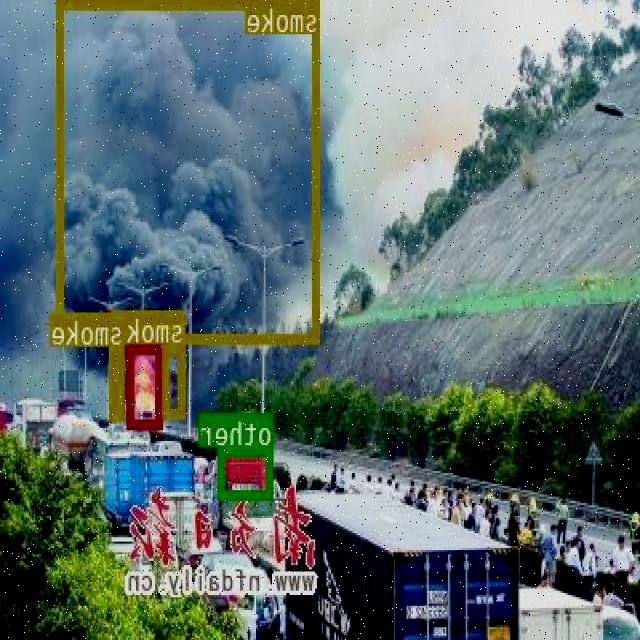fire: (129, 343, 164, 426)
smoke: (59, 0, 321, 342), (163, 343, 186, 418), (111, 346, 126, 418)
